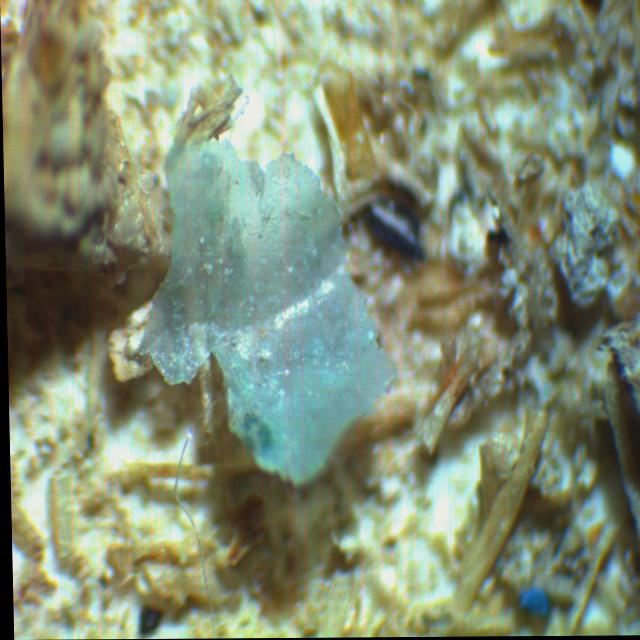microplastic: (44, 88, 465, 503)
